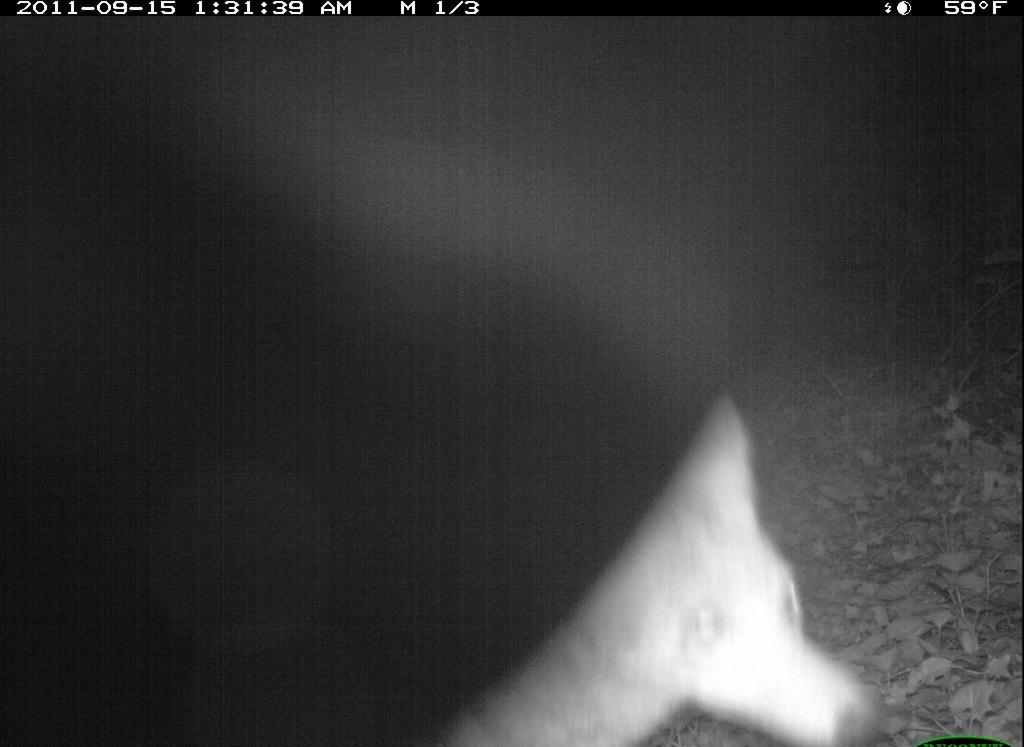coyote: (417, 376, 888, 743)
